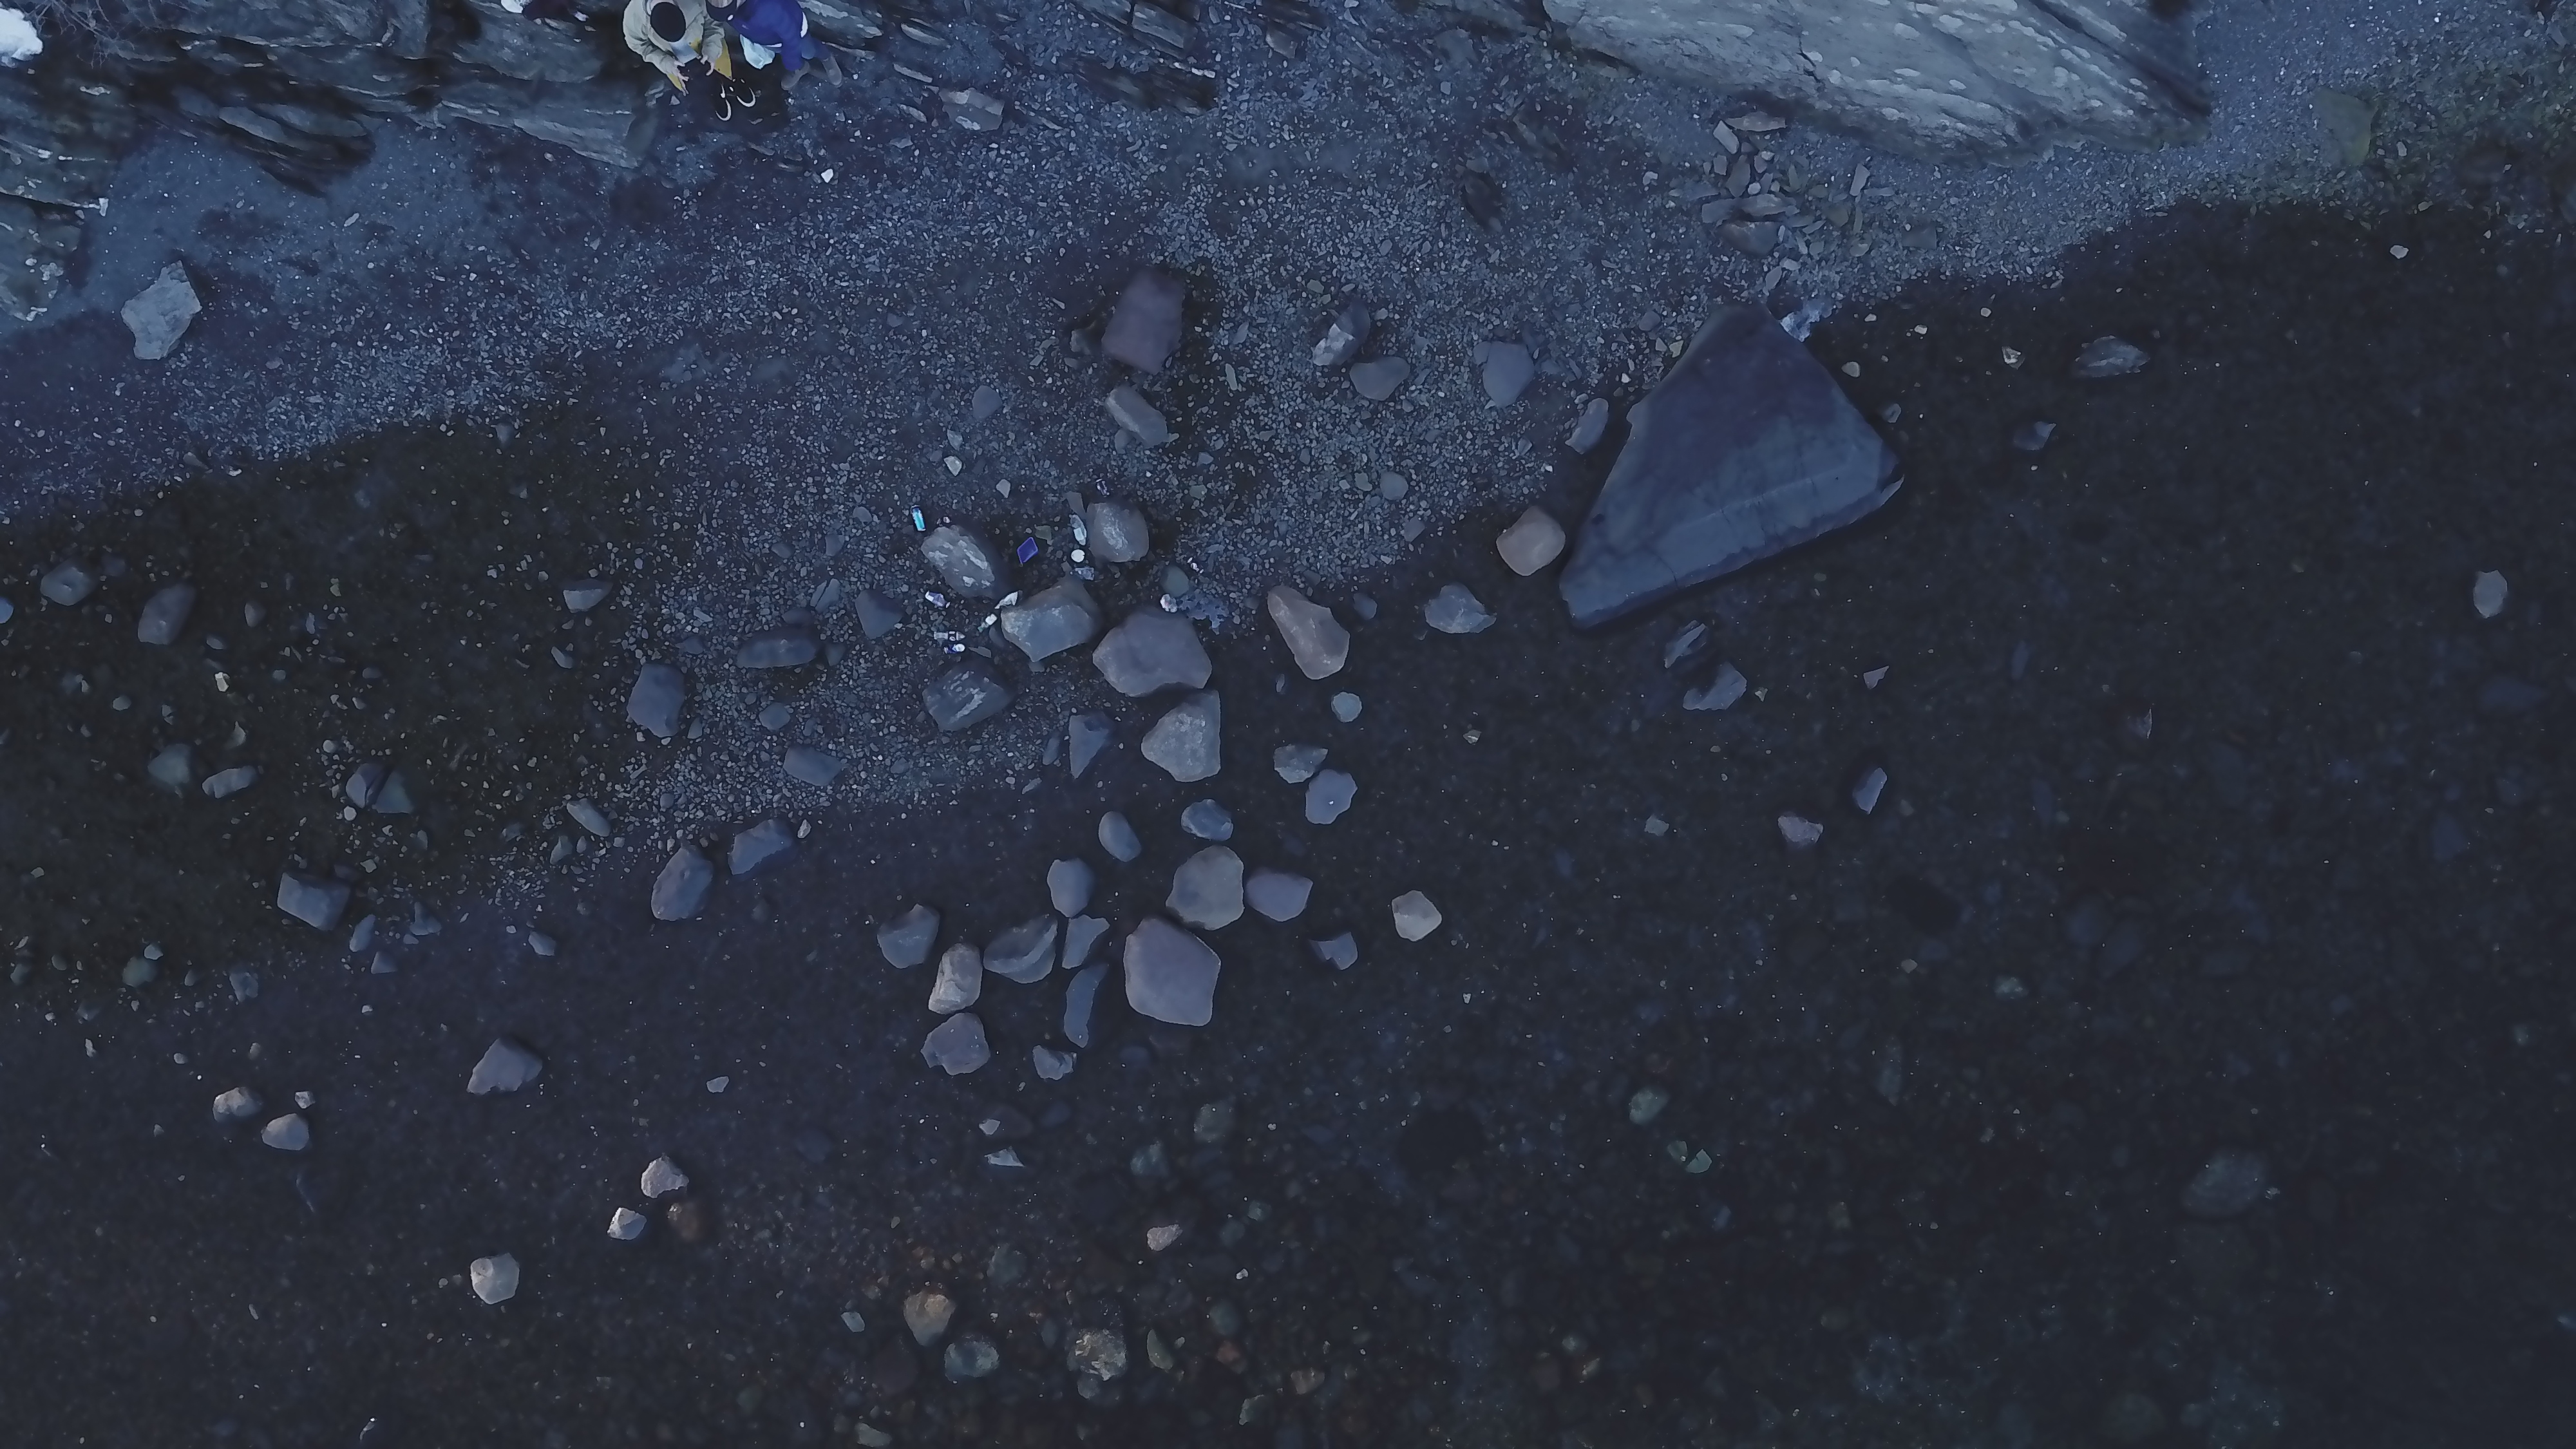Can: (925, 591, 952, 610), (911, 502, 927, 534), (1185, 556, 1207, 575), (1095, 478, 1113, 499), (948, 644, 968, 656)
Plastic: (1017, 534, 1040, 564), (1070, 511, 1090, 543), (1072, 548, 1088, 561)
PlasticBottle: (977, 610, 996, 633), (932, 630, 968, 642)
